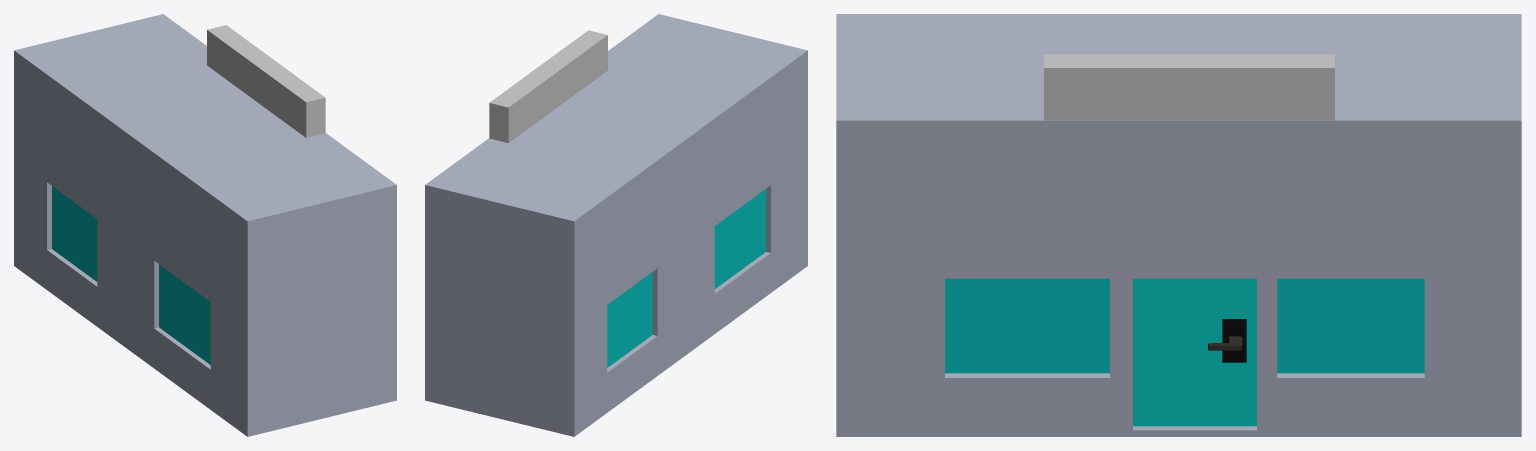
Rendered from Village_Hospital_1.fbx.
3 renders of one model, left to right at view 1: azimuth 30°, elevation 25°; view 2: azimuth 150°, elevation 25°; view 3: azimuth 270°, elevation 25°, orthographic. The views are drawn at different scales.
Visible parts, largest first — view 1: Village_Hospital_1; view 2: Village_Hospital_1; view 3: Village_Hospital_1.
Boxes of the visible parts, left/top/right/bottom form: Village_Hospital_1: left=14, top=14, right=396, bottom=436; Village_Hospital_1: left=425, top=14, right=807, bottom=436; Village_Hospital_1: left=836, top=14, right=1521, bottom=436.
Bounding box in the file's own units: 312 × 472 × 795.
